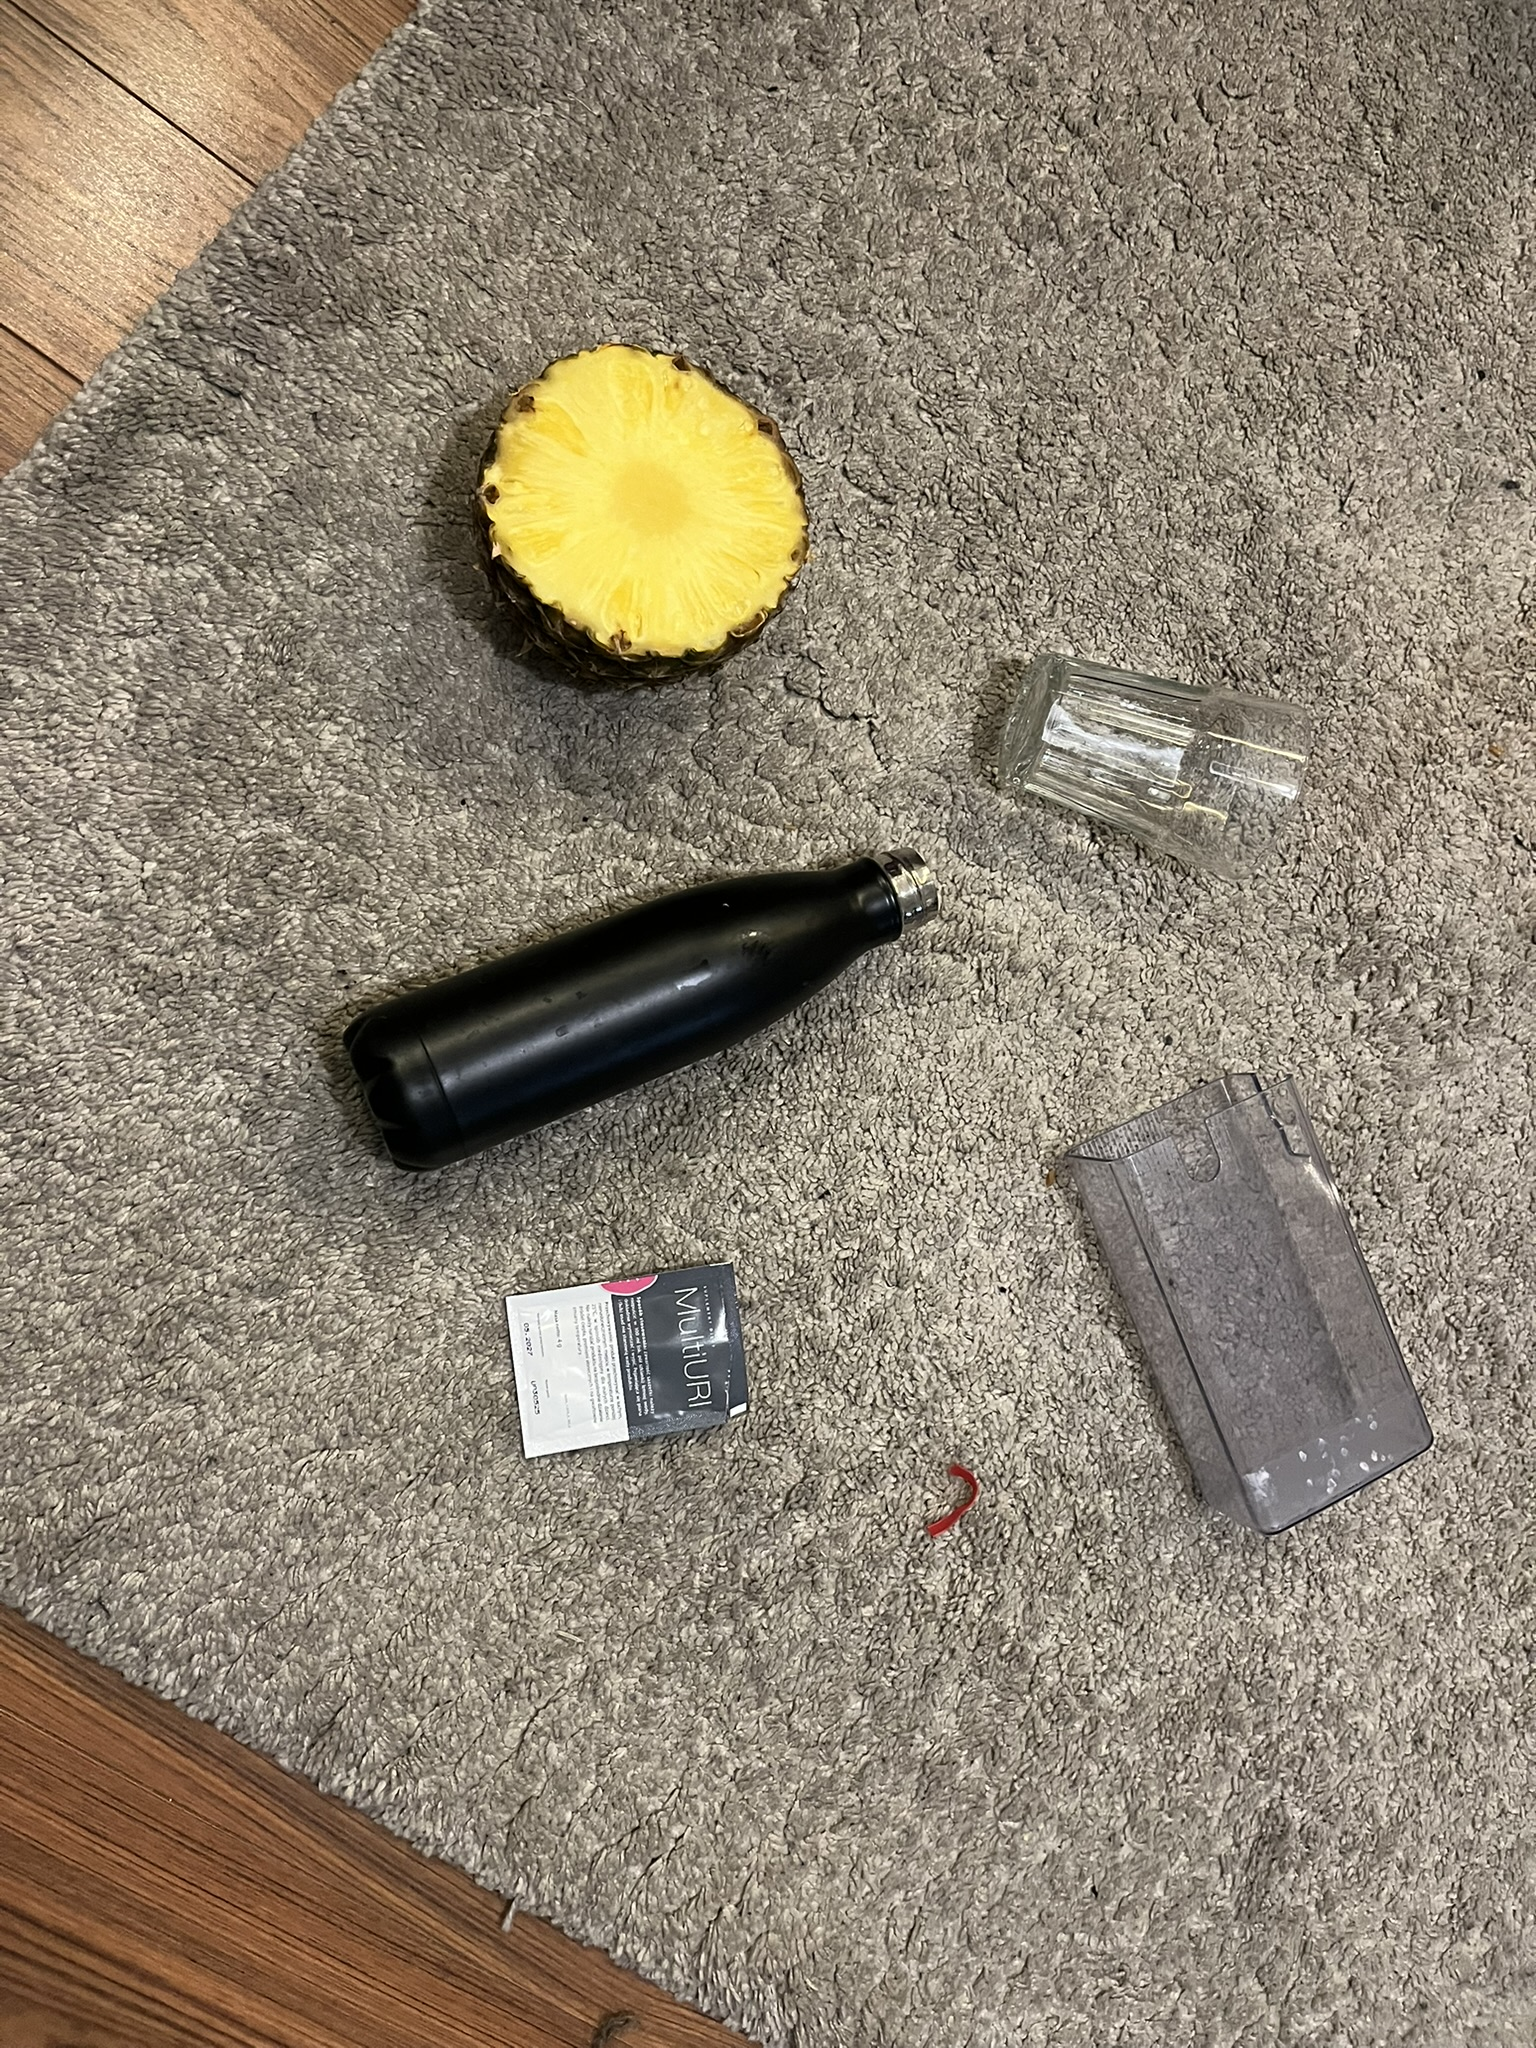BIODEGRADABLE: (465, 347, 824, 713)
GLASS: (1008, 635, 1325, 845)
METAL: (300, 989, 958, 1240)
PLASTIC: (1041, 1161, 1299, 1621), (487, 1293, 750, 1476), (925, 1448, 979, 1559)
